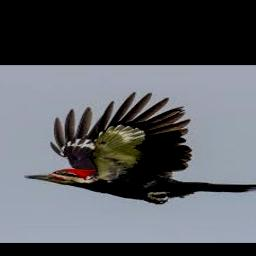Woodpecker: (22, 92, 256, 205)
